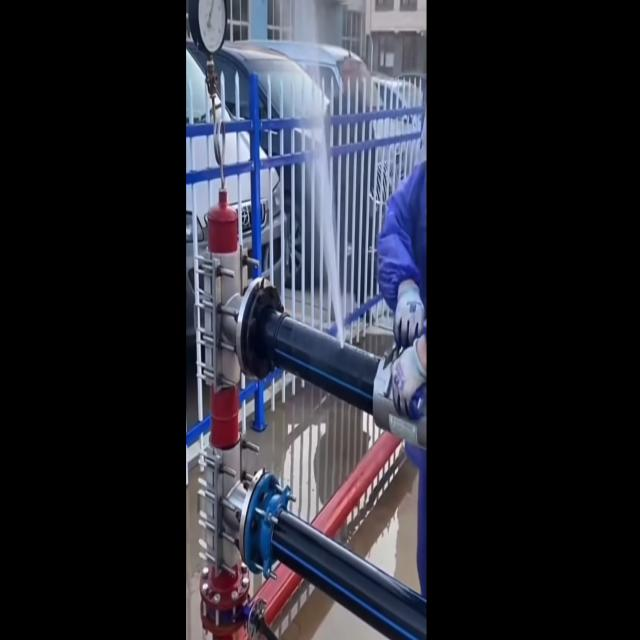leak: (316, 131, 344, 344)
